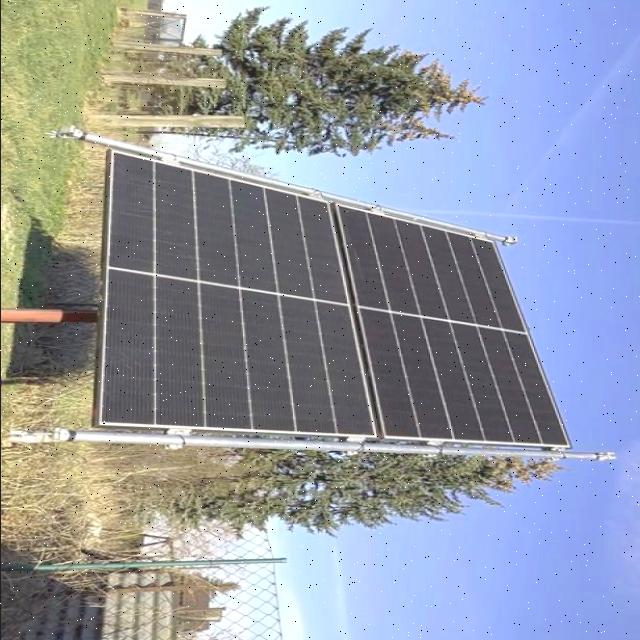Normal Solar Panel: (94, 150, 568, 446)
